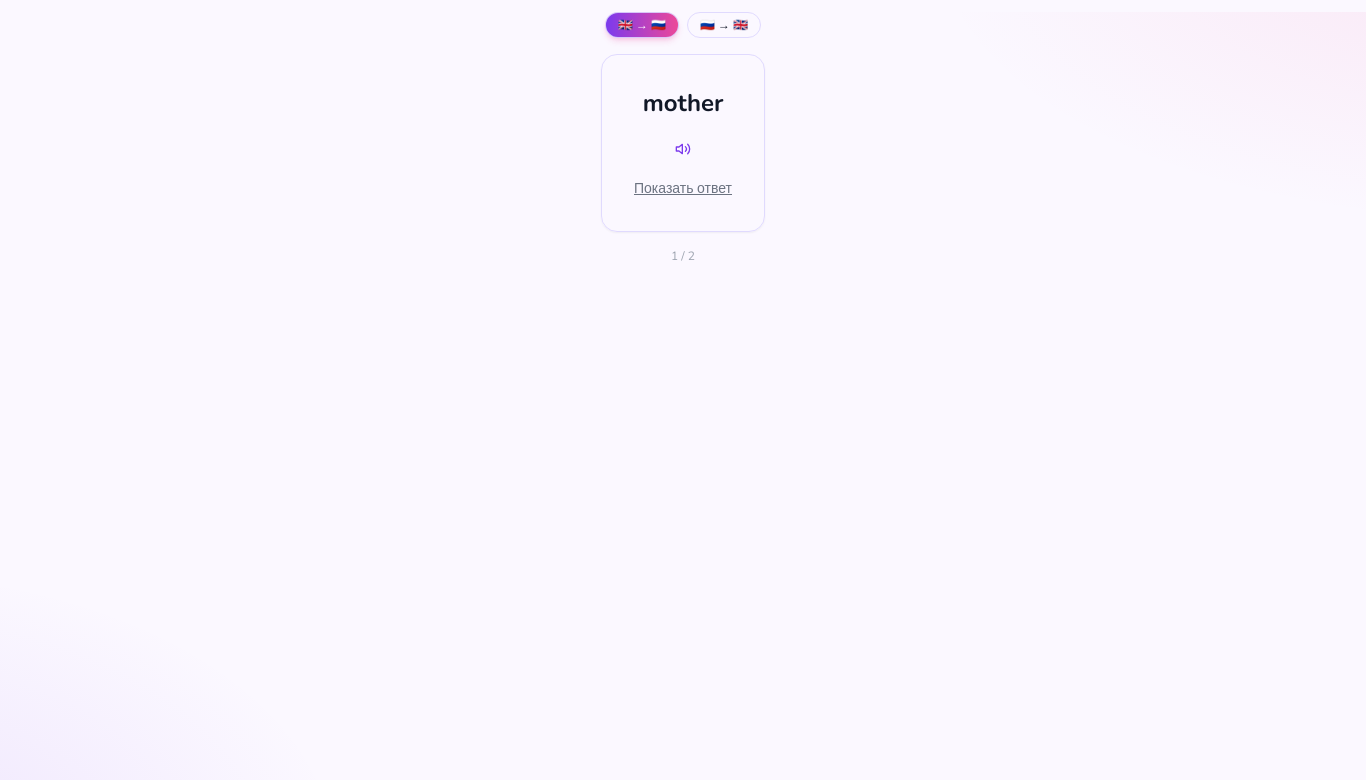
Scenario: FlashcardDeck › toggles direction between EN->RU and RU->EN
The image size is (1366, 780).
Expected: the text "mother" is shown, [643, 87, 723, 119]
Click the button "🇷🇺 → 🇬🇧": x=724, y=25 [687, 12, 761, 38]
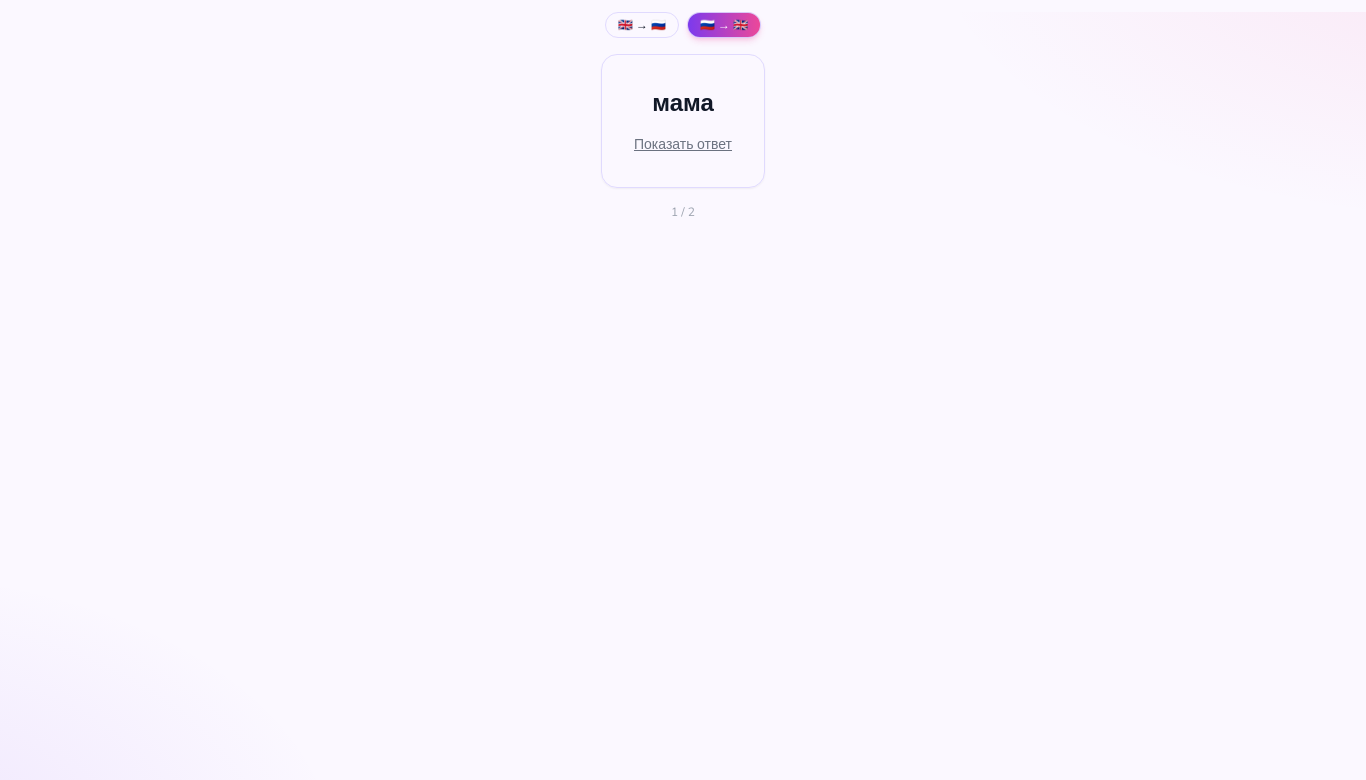
Now the text "мама" is shown, box [652, 87, 714, 119]
